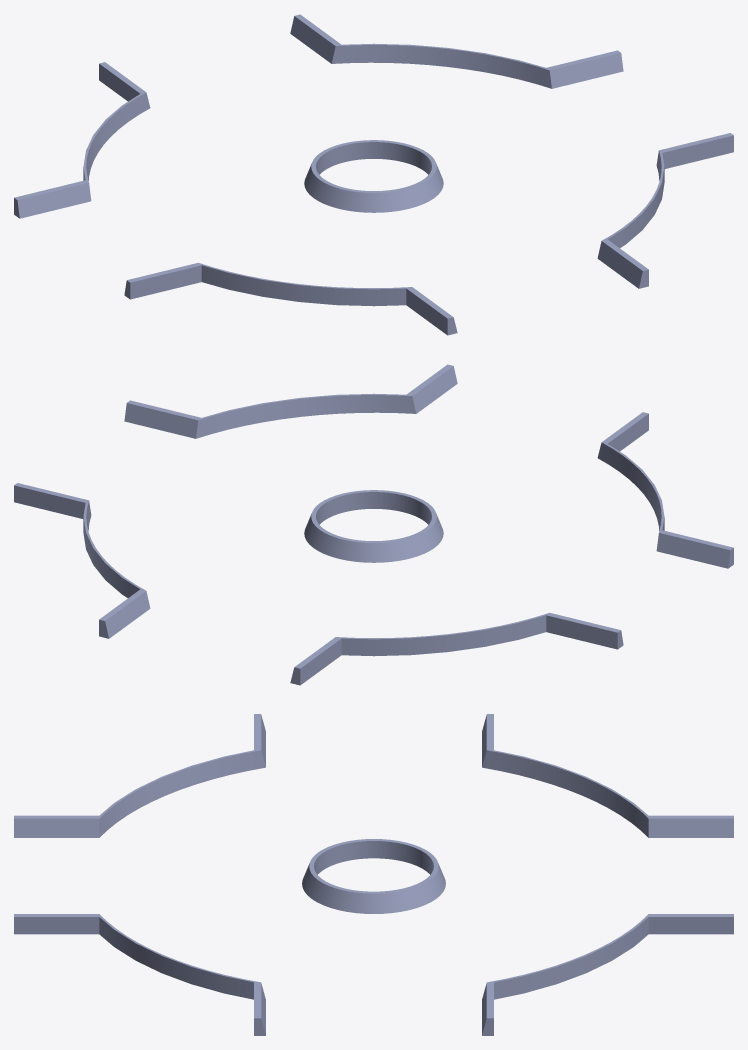
Rendered from road-roundabout-barrier.fbx.
3 renders of one model, top to bottom at view 1: azimuth 30°, elevation 25°; view 2: azimuth 150°, elevation 25°; view 3: azimuth 270°, elevation 25°, orthographic. The views are drawn at different scales.
Parts seen in each view (by area): view 1: road-roundabout-barrier; view 2: road-roundabout-barrier; view 3: road-roundabout-barrier.
Boxes of the visible parts, x1,y1,x2,y2 form: road-roundabout-barrier: (14,14,733,335); road-roundabout-barrier: (14,364,733,685); road-roundabout-barrier: (14,714,733,1035).
Size of the model in its own units: 300 by 8 by 300.
